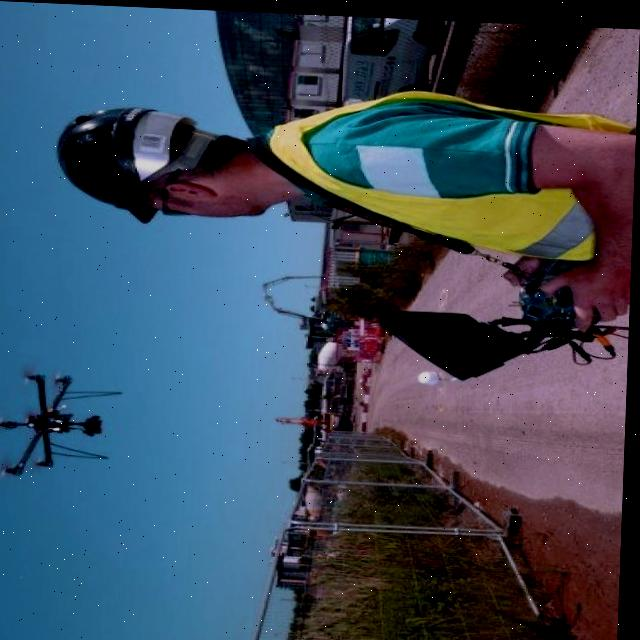drone: (0, 348, 127, 501)
